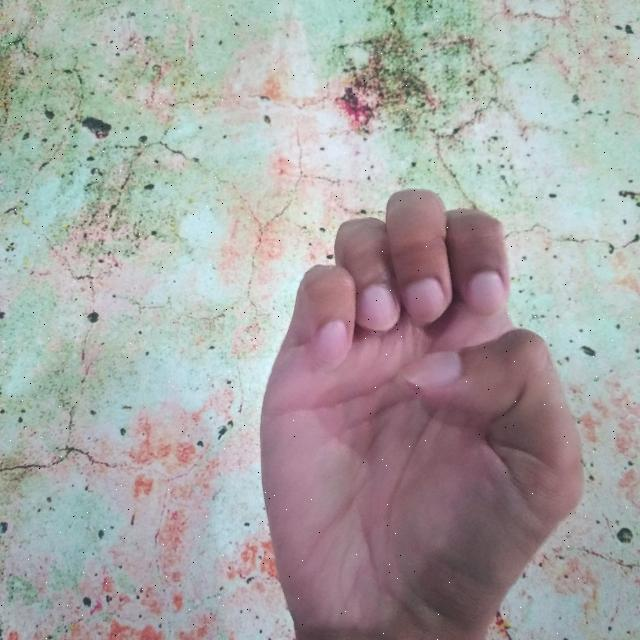E: (258, 185, 584, 640)
